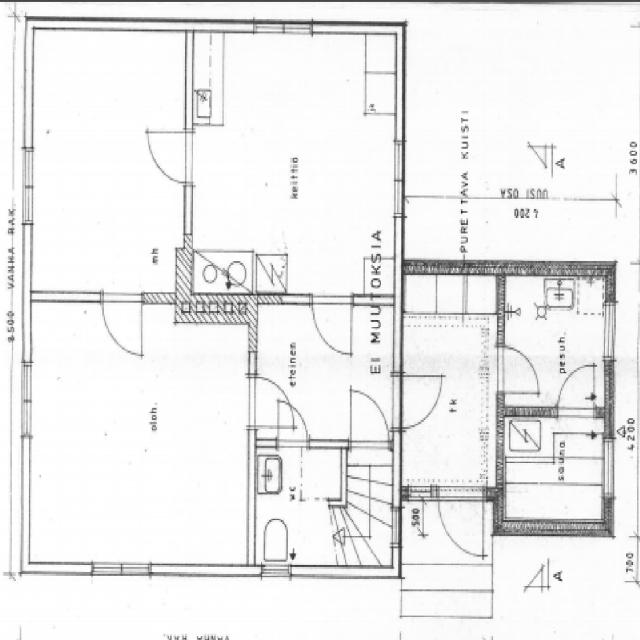door: (438, 486, 484, 561), (396, 373, 448, 429), (310, 292, 352, 355), (143, 130, 192, 184), (101, 292, 141, 354), (558, 357, 596, 417), (249, 378, 294, 427), (351, 391, 389, 446), (496, 344, 540, 390), (277, 399, 307, 446)
